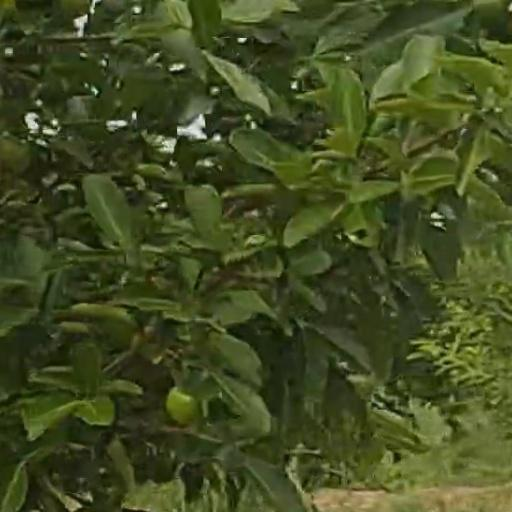acerola: (166, 391, 192, 428)
